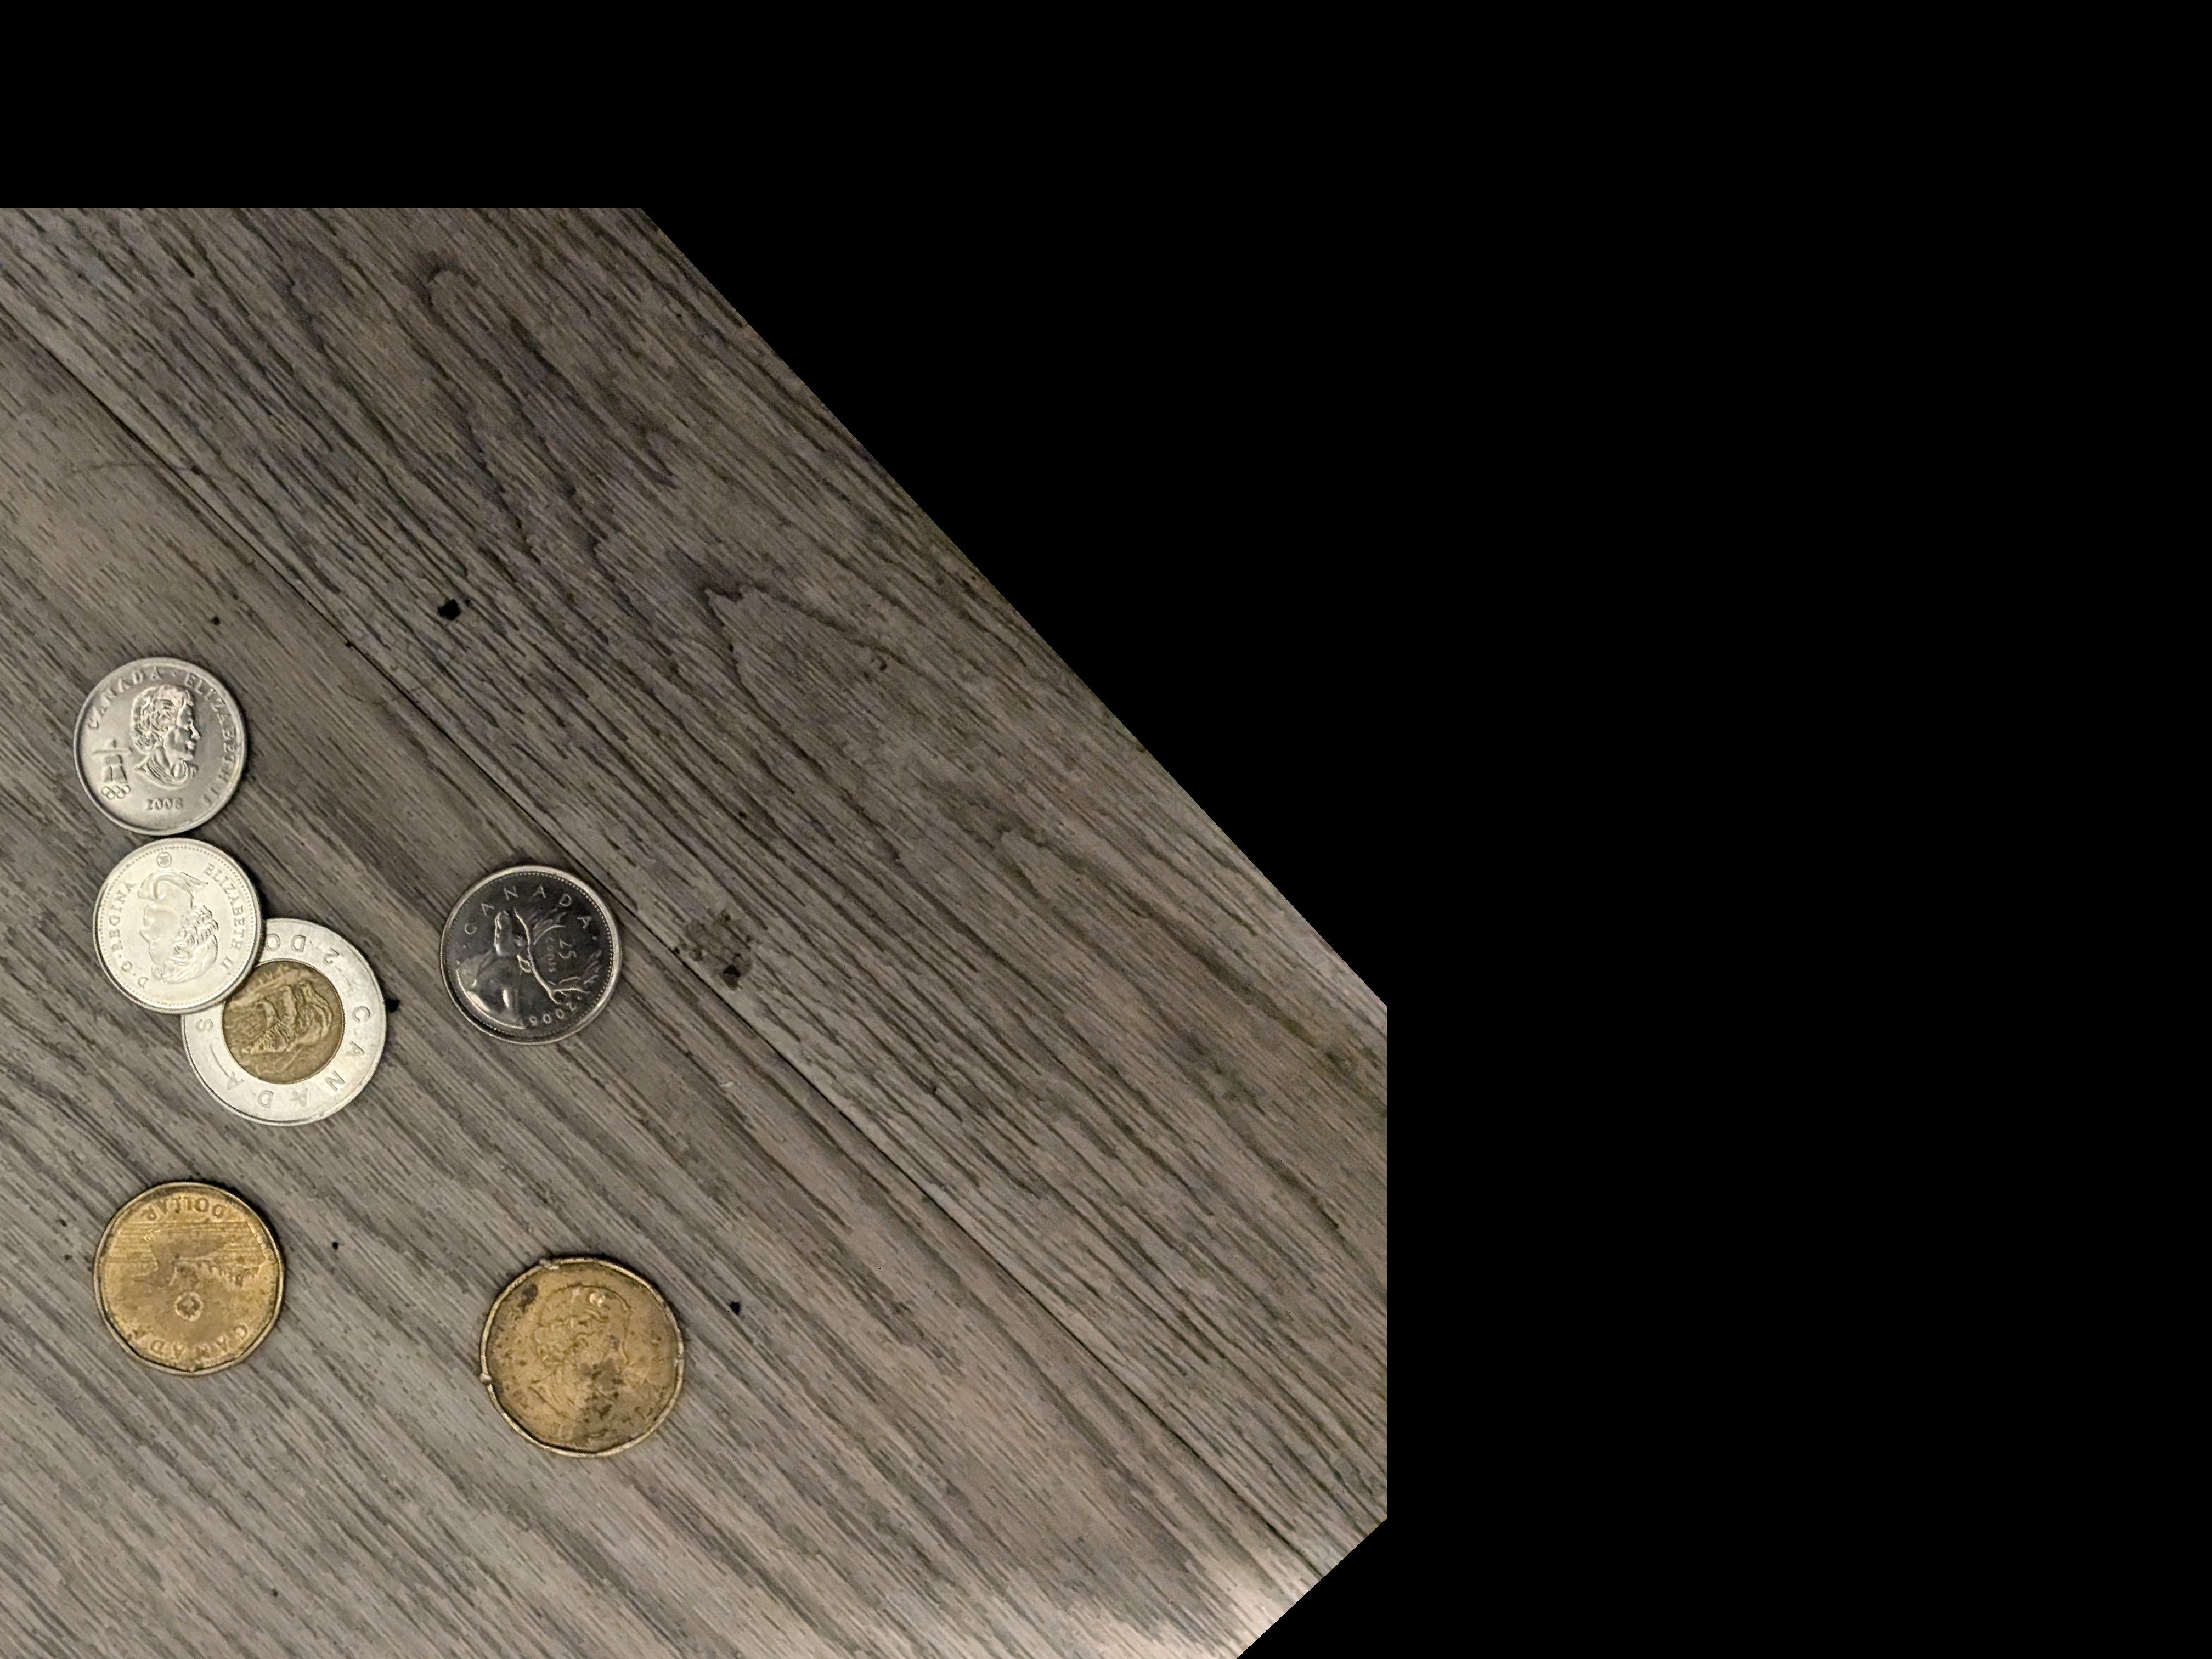loonie: (479, 1253, 695, 1459), (96, 1173, 291, 1384)
quarter: (444, 861, 624, 1049), (71, 653, 251, 835), (91, 835, 266, 1011)
toonie: (179, 917, 392, 1134)
